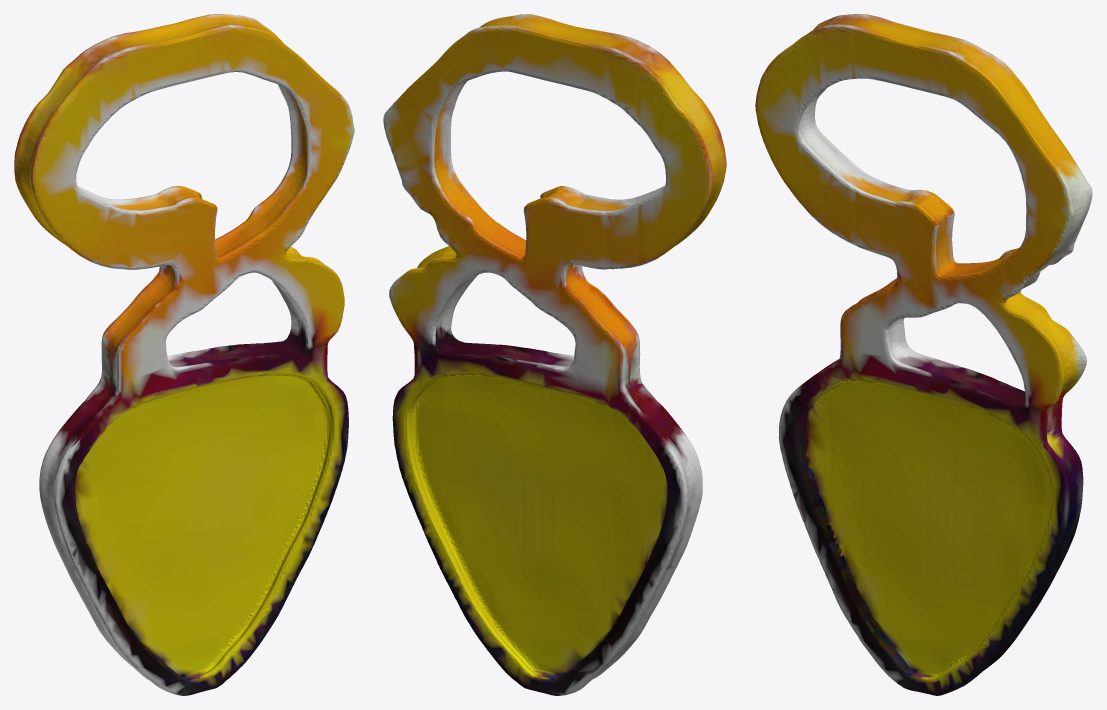
Rendered from amulet_shielding.glb.
3 views of the same model, side by side, from view 1: azimuth 30°, elevation 25°; view 2: azimuth 150°, elevation 25°; view 3: azimuth 330°, elevation 25° (orthographic).
Parts seen in each view (by area): view 1: geometry_0; view 2: geometry_0; view 3: geometry_0.
Boxes of the visible parts, x1,y1,x2,y2 form: geometry_0: [14, 14, 354, 695]; geometry_0: [383, 14, 726, 695]; geometry_0: [755, 14, 1092, 695].
Bounding box in the file's own units: 0.375 × 0.7216 × 0.0376.
